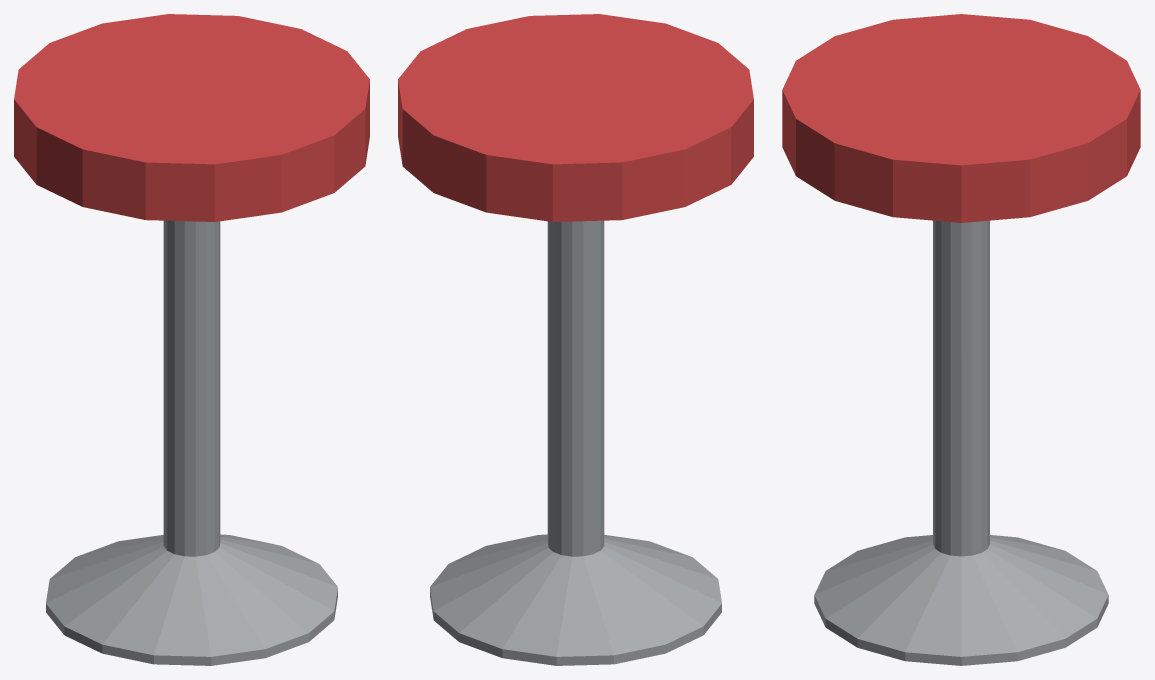
The model's file is SM_stool_01.fbx.
3 views of the same model, side by side, from view 1: azimuth 30°, elevation 25°; view 2: azimuth 150°, elevation 25°; view 3: azimuth 270°, elevation 25° (orthographic).
Parts seen in each view (by area): view 1: Cylinder041; view 2: Cylinder041; view 3: Cylinder041.
Part boxes in pixels (x1,y1,x2,y2): Cylinder041: [14, 14, 369, 665]; Cylinder041: [398, 14, 753, 665]; Cylinder041: [782, 14, 1140, 665].
Size of the model in its own units: 20.14 by 20.14 by 31.88.
